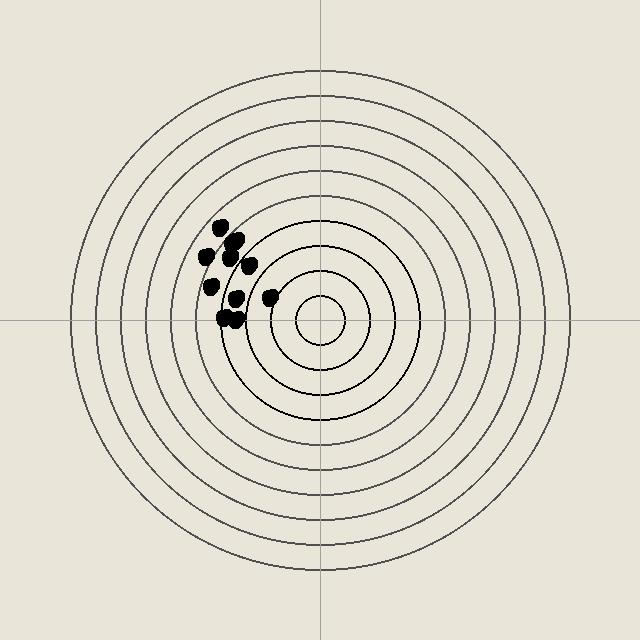good_group: (225, 288, 245, 308), (219, 247, 239, 267), (195, 246, 215, 266), (238, 255, 258, 275), (200, 276, 220, 296), (221, 233, 241, 253), (225, 309, 245, 329), (209, 217, 229, 237), (225, 230, 245, 250), (213, 307, 233, 327), (259, 287, 279, 307)
